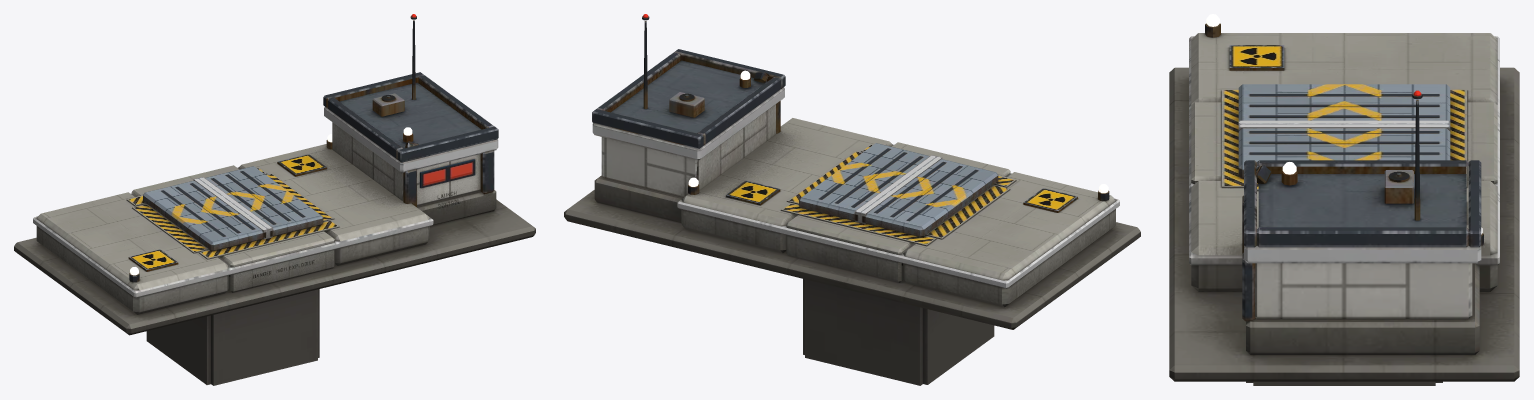
File: mslo.allies.glb
The picture shows the model from 3 angles, left to right: view 1: azimuth 30°, elevation 25°; view 2: azimuth 150°, elevation 25°; view 3: azimuth 270°, elevation 25°; orthographic projection. The views are drawn at different scales.
Parts seen in each view (by area): view 1: root_mesh, pit_mesh, doorL_mesh, doorR_mesh; view 2: root_mesh, pit_mesh, doorL_mesh, doorR_mesh; view 3: root_mesh, doorL_mesh, doorR_mesh, pit_mesh.
Part boxes in pixels (box(x1,y1,x2,y2)): root_mesh: box(14, 14, 535, 335); pit_mesh: box(146, 249, 319, 385); doorL_mesh: box(143, 178, 268, 251); doorR_mesh: box(198, 166, 323, 238); root_mesh: box(564, 14, 1140, 329); pit_mesh: box(803, 235, 994, 385); doorL_mesh: box(860, 156, 998, 236); doorR_mesh: box(799, 143, 936, 222); root_mesh: box(1169, 14, 1519, 381); doorL_mesh: box(1238, 84, 1450, 123); doorR_mesh: box(1238, 124, 1450, 178); pit_mesh: box(1246, 381, 1442, 385).
Size of the model in its own units: 1.96 by 1.22 by 0.96.
2 materials, 1 textured.
